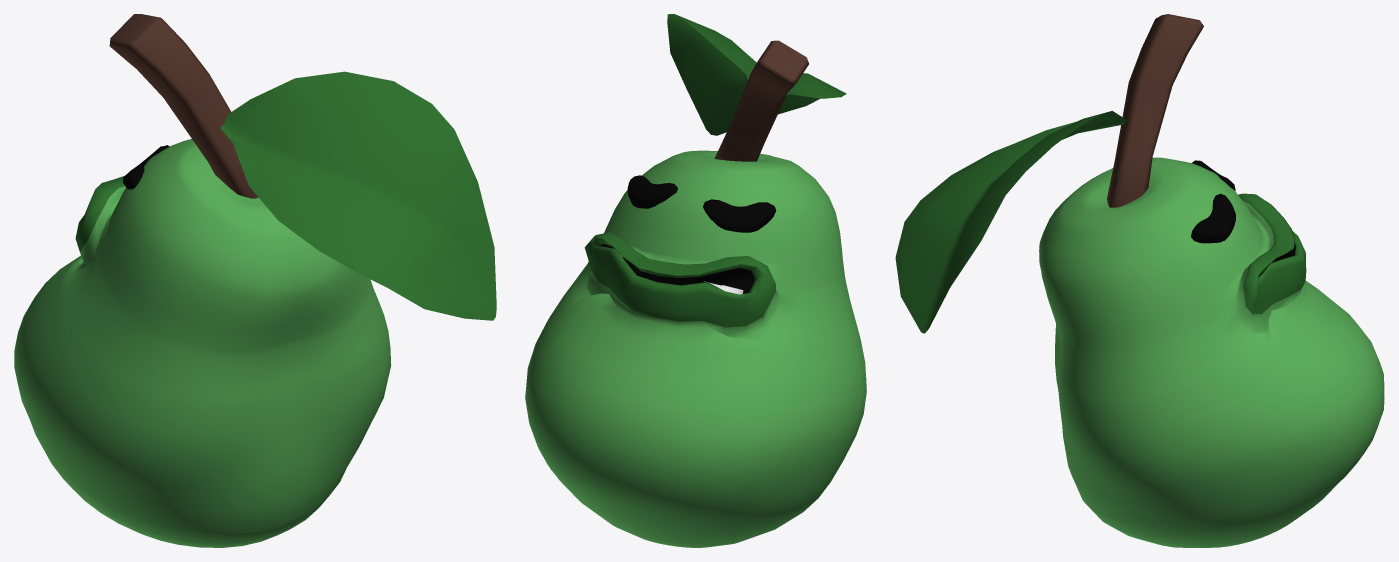
Rendered from Playershoot_Geo.fbx.
3 views of the same model, side by side, from view 1: azimuth 30°, elevation 25°; view 2: azimuth 150°, elevation 25°; view 3: azimuth 270°, elevation 25° (orthographic). The views are drawn at different scales.
Visible parts, largest first — view 1: Player_Geo1; view 2: Player_Geo1; view 3: Player_Geo1.
Boxes of the visible parts, x1,y1,x2,y2 form: Player_Geo1: [14, 14, 496, 547]; Player_Geo1: [525, 14, 866, 547]; Player_Geo1: [895, 14, 1384, 547].
Bounding box in the file's own units: 185 × 301 × 273.
